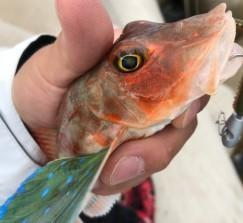fish: (0, 4, 242, 222)
